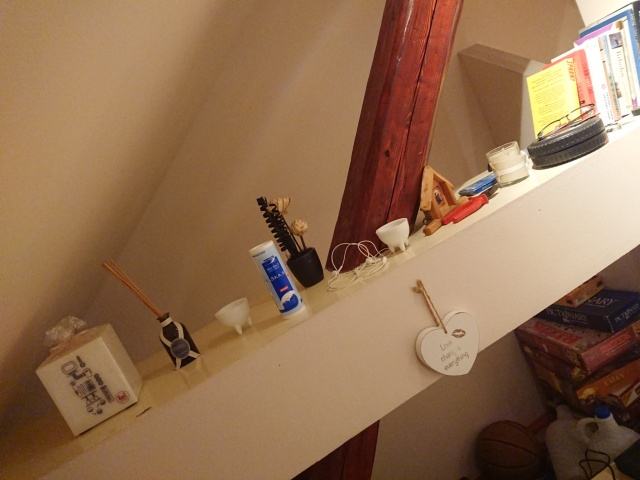Solana Pag Fine Sea Salt 250g: (246, 238, 311, 322)
